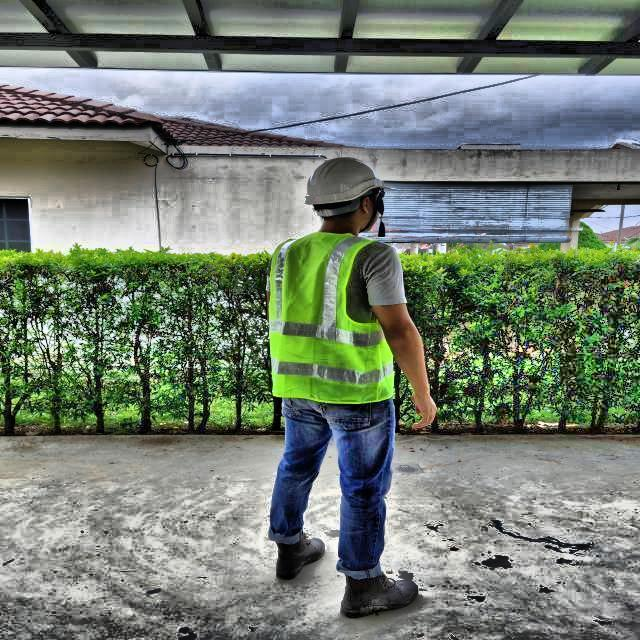safety_jacket: (266, 228, 401, 407)
